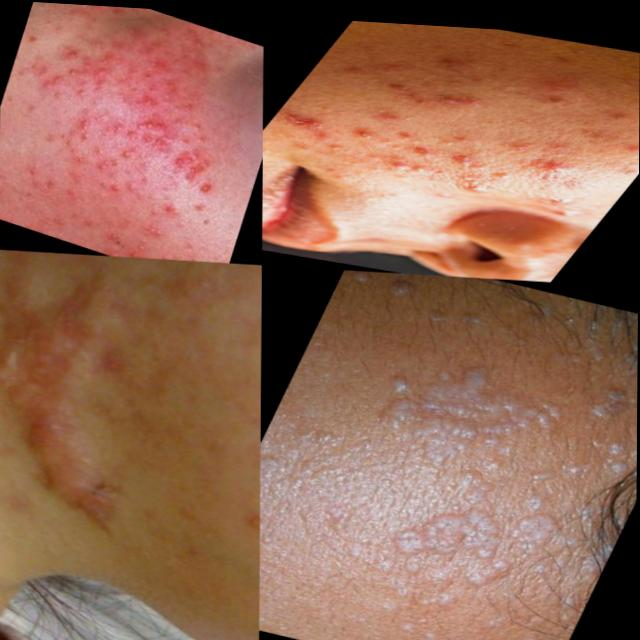6: (0, 272, 220, 545)
7: (262, 134, 281, 145)
8: (427, 84, 473, 107), (384, 152, 438, 171), (450, 172, 496, 192), (528, 150, 570, 168), (101, 176, 124, 198)
9: (131, 111, 157, 133), (348, 124, 385, 137), (194, 178, 214, 199), (115, 140, 134, 161), (143, 50, 161, 66), (119, 246, 145, 256)
blackheads: (352, 330, 578, 493), (365, 471, 575, 615), (539, 333, 638, 501), (414, 292, 502, 340), (337, 265, 437, 304), (471, 625, 555, 640), (169, 143, 195, 179)
